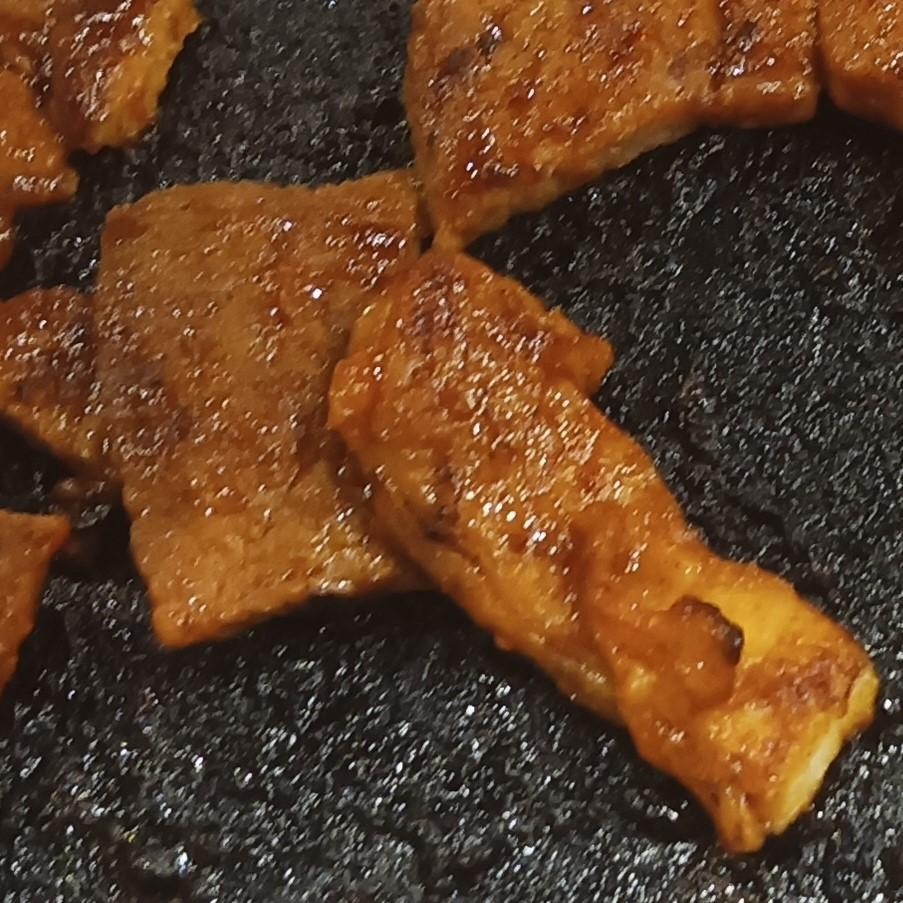Well-Cooked: (328, 252, 881, 855), (93, 171, 547, 651), (403, 0, 902, 253), (0, 0, 202, 202), (1, 289, 96, 469)
